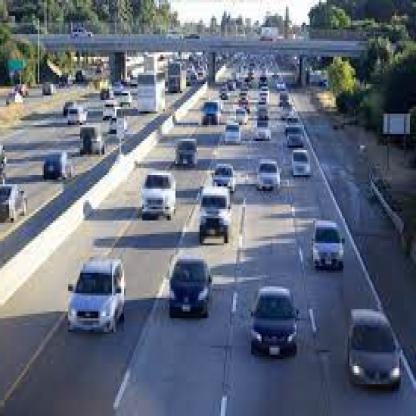bus: (137, 74, 166, 115)
car: (68, 258, 125, 335), (349, 306, 402, 388), (251, 287, 298, 358), (169, 256, 214, 322), (199, 188, 236, 247), (142, 176, 177, 224), (313, 219, 346, 269), (80, 126, 108, 158), (45, 151, 73, 181), (258, 160, 281, 194), (198, 101, 222, 128), (175, 140, 198, 167), (293, 151, 314, 178), (69, 101, 89, 124), (225, 122, 241, 147), (288, 126, 305, 149), (257, 122, 273, 140), (255, 106, 272, 119), (236, 110, 249, 126), (283, 106, 295, 119), (279, 92, 290, 103)
